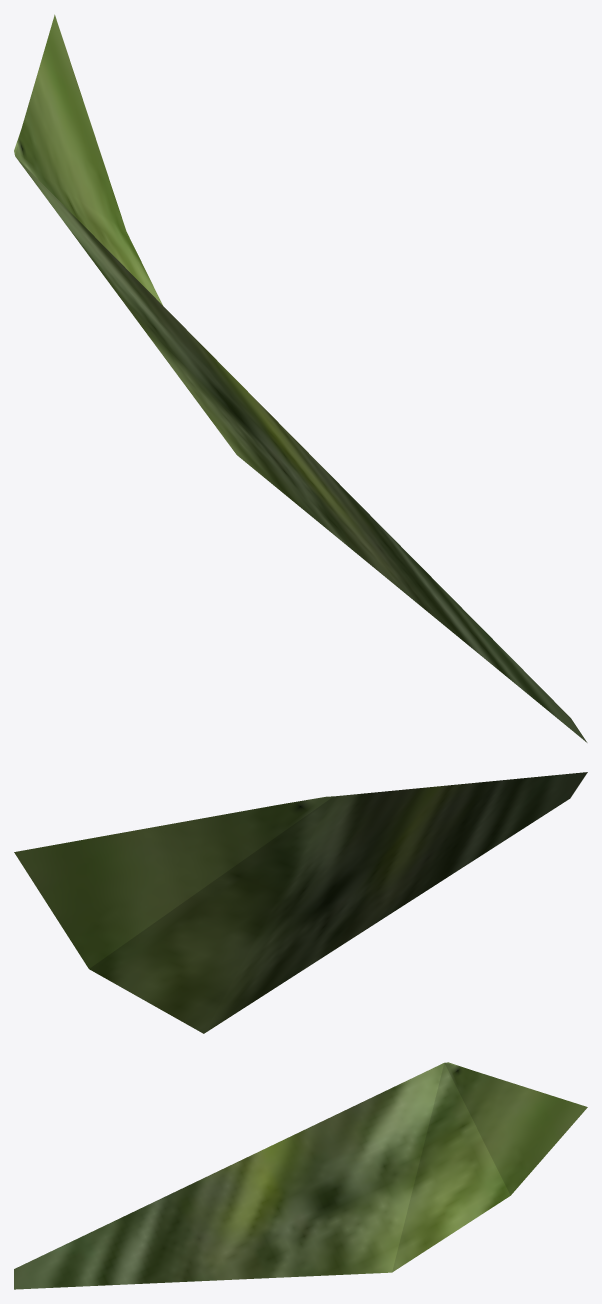
3 renders of one model, top to bottom at view 1: azimuth 30°, elevation 25°; view 2: azimuth 150°, elevation 25°; view 3: azimuth 270°, elevation 25°, orthographic. The views are drawn at different scales.
Bounding box in the file's own units: 0.2046 × 0.3827 × 1.09.
Materials: 1 (1 with a texture image).
